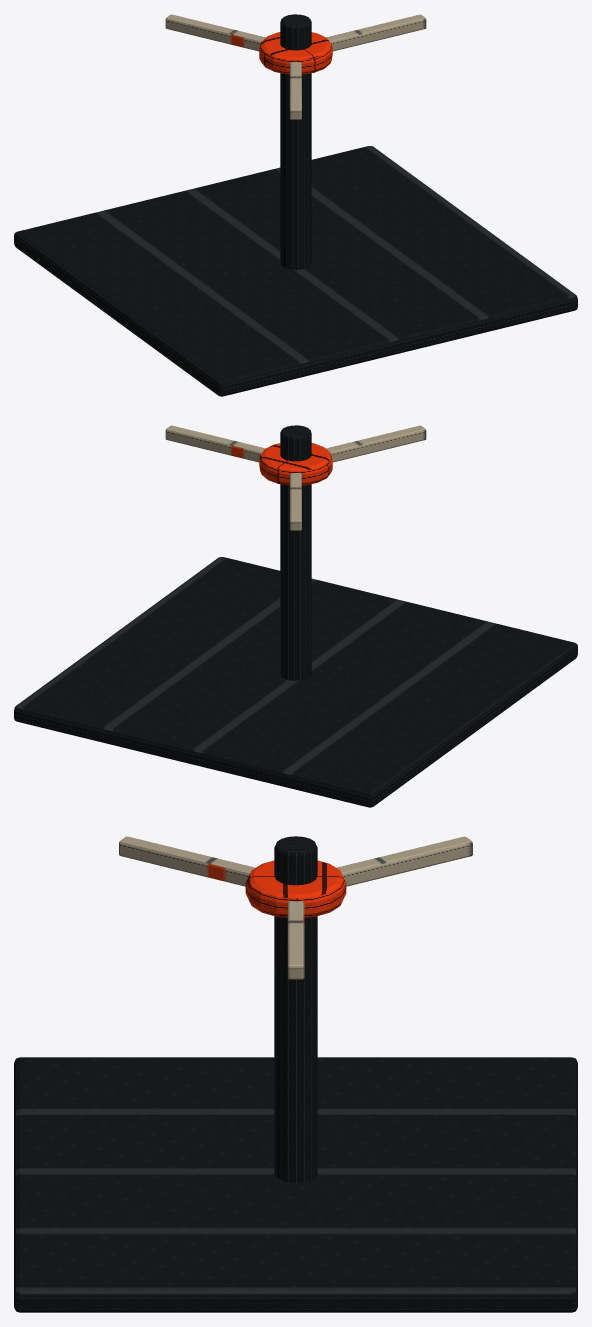
File: roof_communications_array.glb
The picture shows the model from 3 angles, top to bottom: view 1: azimuth 30°, elevation 25°; view 2: azimuth 150°, elevation 25°; view 3: azimuth 270°, elevation 25°; orthographic projection. The views are drawn at different scales.
Parts seen in each view (by area): view 1: Removable roof mounting plate.005, Array mast, Array hub, Array arm, Array arm.001, Array arm.002; view 2: Removable roof mounting plate.005, Array mast, Array hub, Array arm.002, Array arm, Array arm.001; view 3: Removable roof mounting plate.005, Array mast, Array hub, Array arm.001, Array arm.002, Array arm.
Boxes of the visible parts, <box> form: Removable roof mounting plate.005: <box>14,146,577,396</box>; Array mast: <box>280,14,311,269</box>; Array hub: <box>259,32,332,74</box>; Array arm: <box>326,14,426,51</box>; Array arm.001: <box>165,14,265,51</box>; Array arm.002: <box>289,62,301,119</box>; Removable roof mounting plate.005: <box>14,557,577,807</box>; Array mast: <box>280,425,311,680</box>; Array hub: <box>259,443,332,485</box>; Array arm.002: <box>326,425,426,462</box>; Array arm: <box>165,425,265,462</box>; Array arm.001: <box>289,473,301,530</box>; Removable roof mounting plate.005: <box>14,1057,577,1312</box>; Array mast: <box>274,836,317,1183</box>; Array hub: <box>245,860,346,917</box>; Array arm.001: <box>336,836,472,886</box>; Array arm.002: <box>119,836,255,886</box>; Array arm: <box>287,901,304,979</box>.
Bounding box in the file's own units: 2.36 × 1.62 × 2.36.
Materials: 3 (3 with a texture image).
